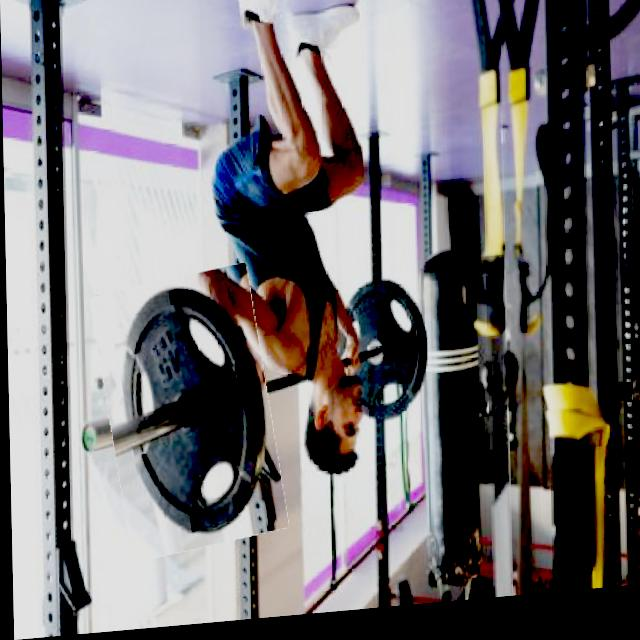barbell: (98, 271, 279, 563)
